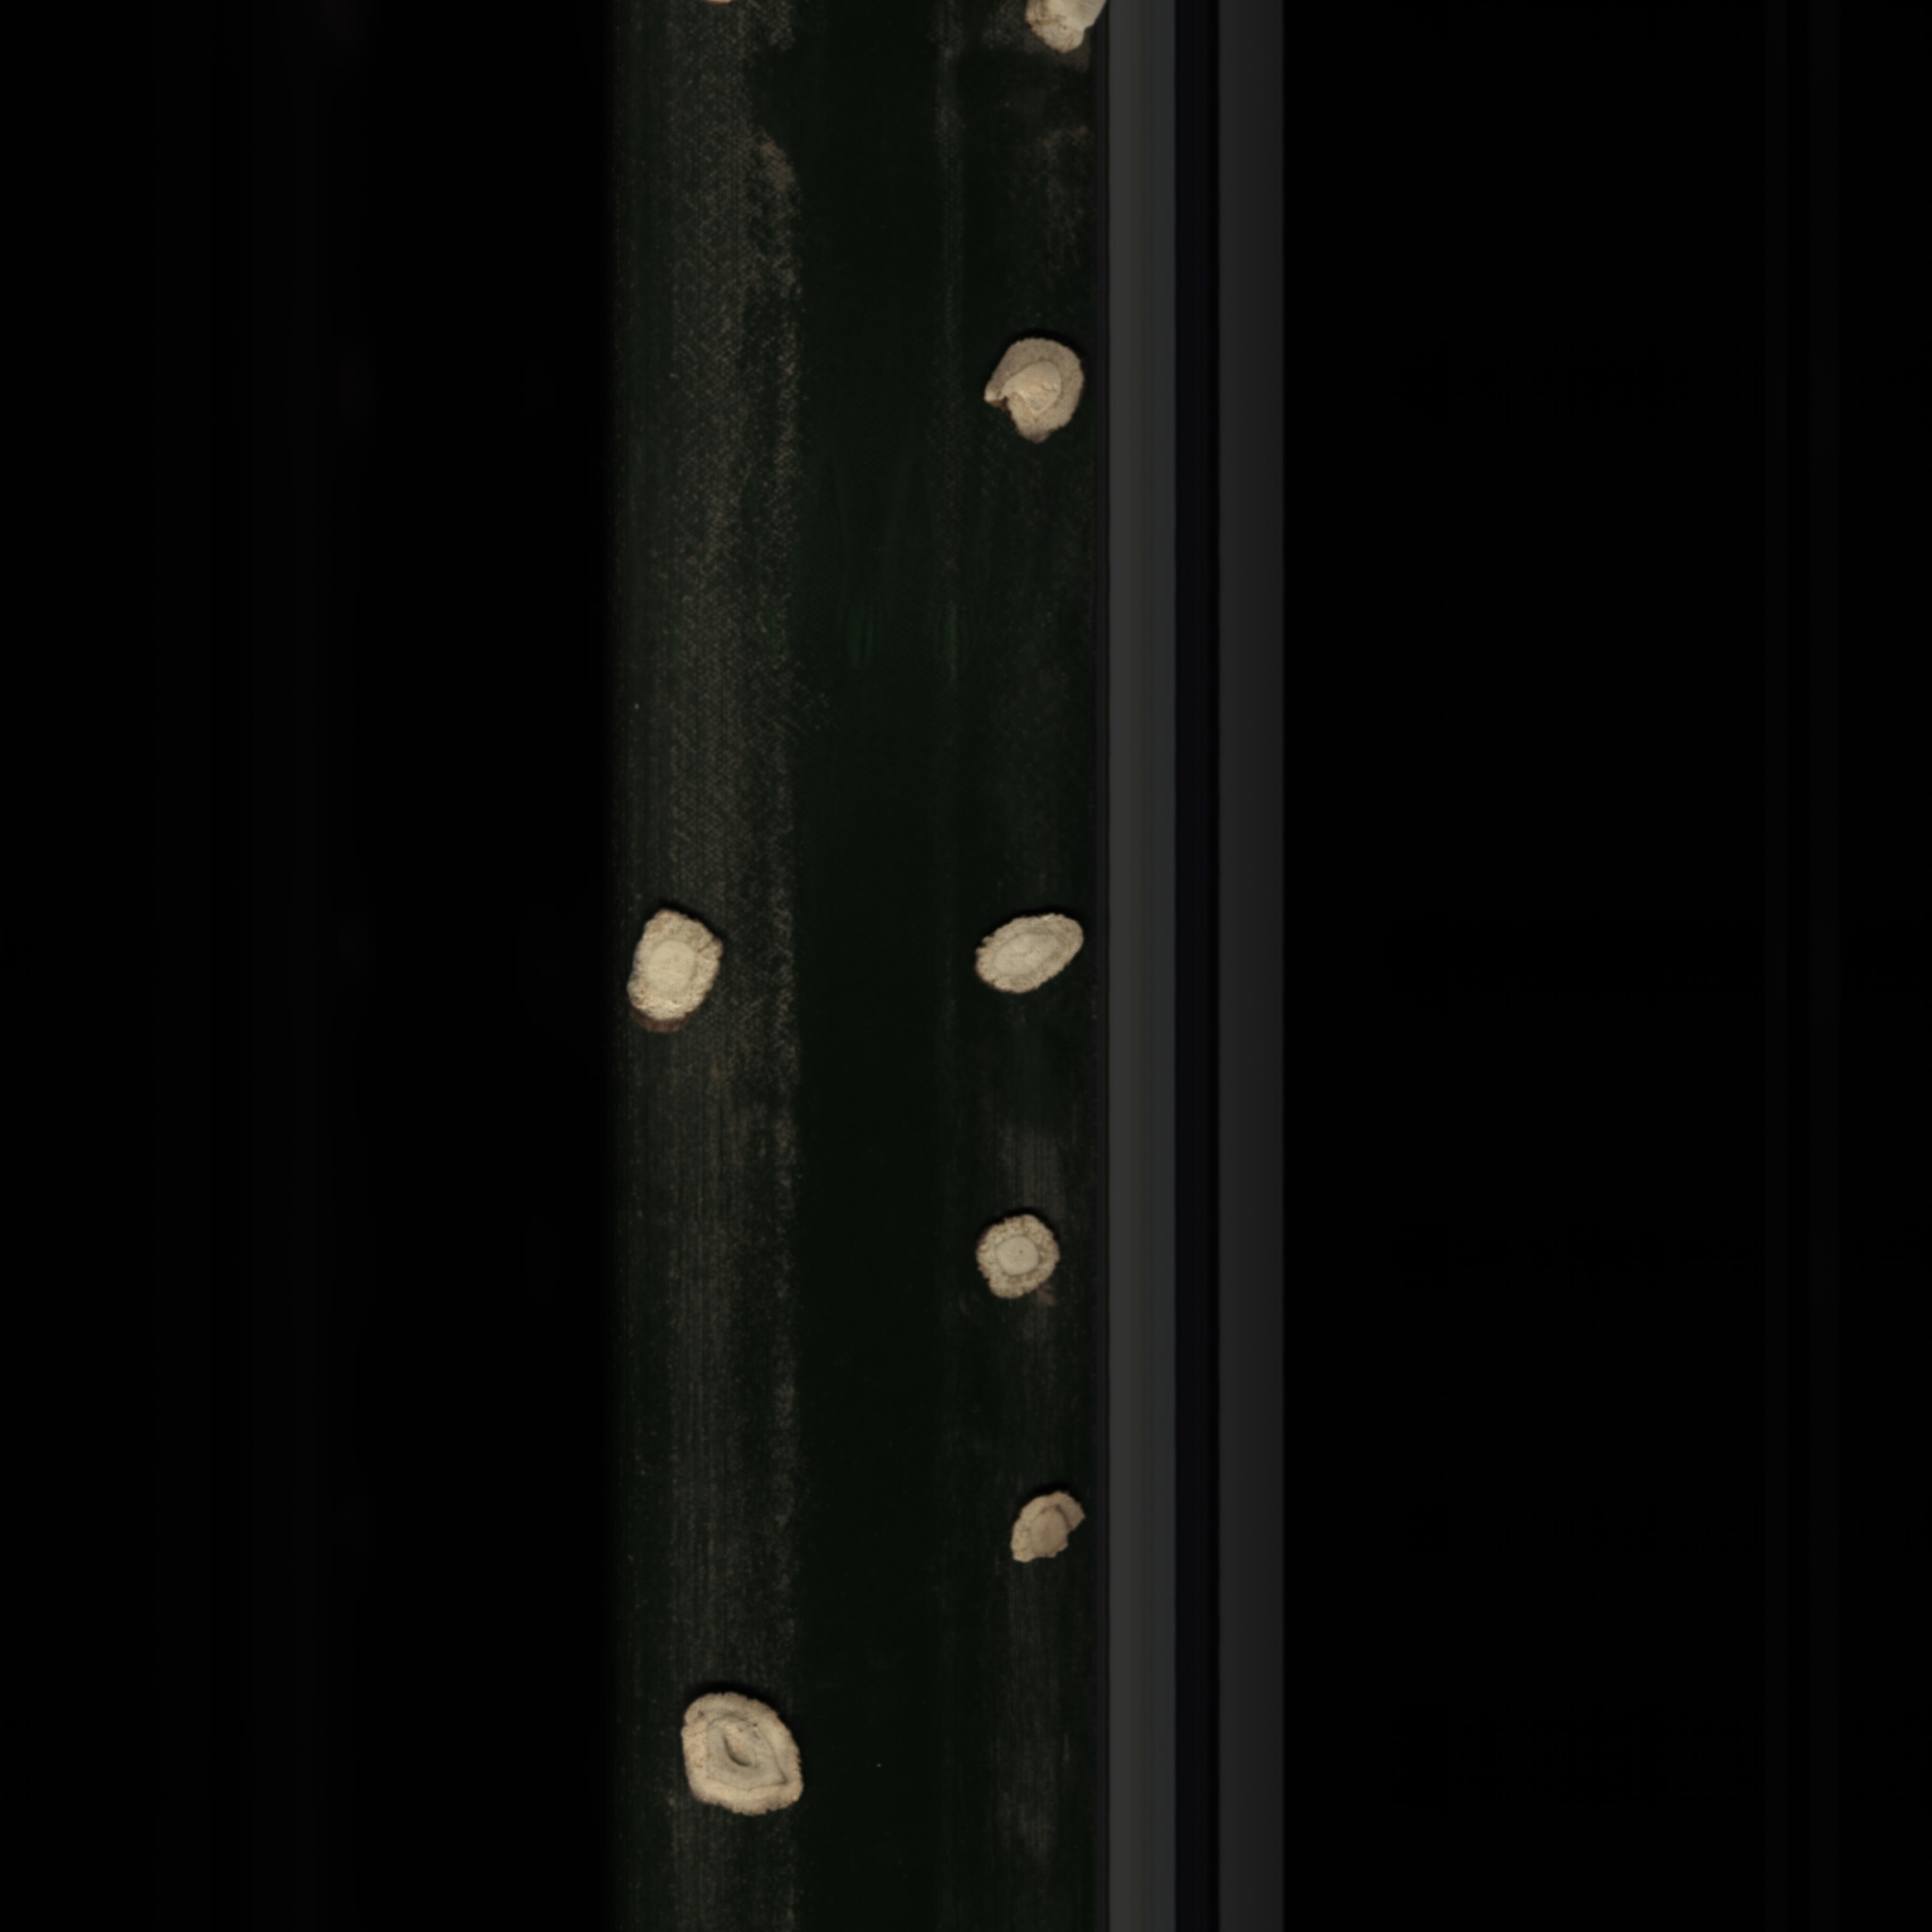debris: (1003, 1486, 1090, 1573)
